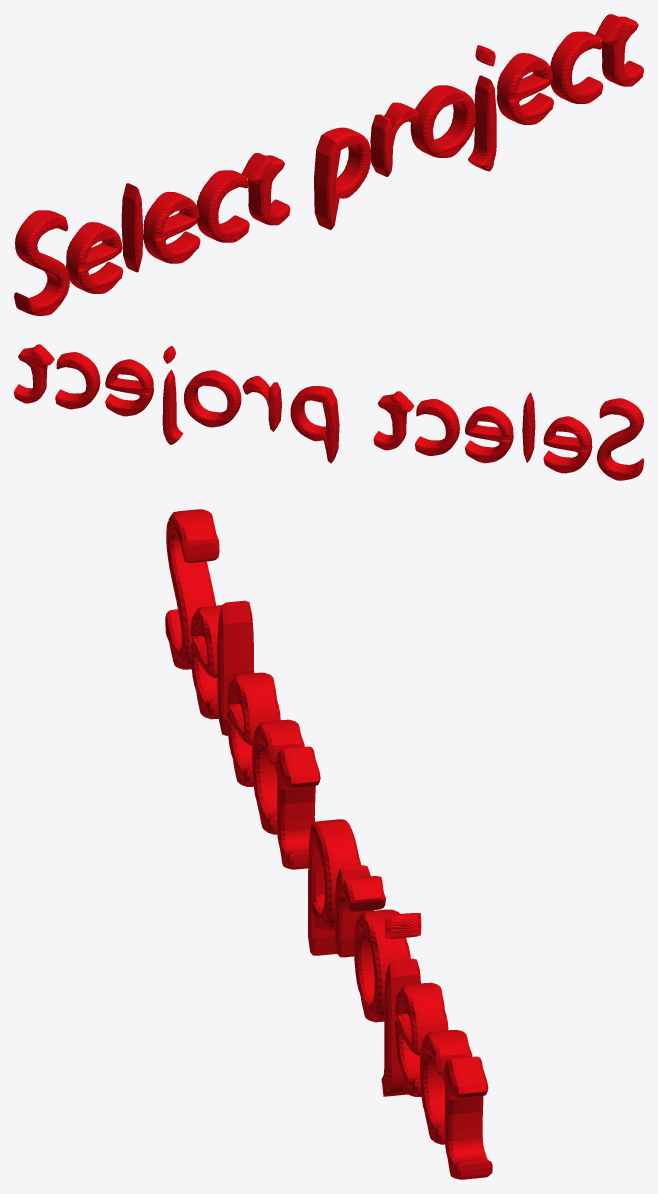
File: bebrik.glb
3 renders of one model, top to bottom at view 1: azimuth 30°, elevation 25°; view 2: azimuth 150°, elevation 25°; view 3: azimuth 270°, elevation 25°, orthographic. The views are drawn at different scales.
Visible parts, largest first — view 1: bebrik; view 2: bebrik; view 3: bebrik.
Part boxes in pixels (bbox=[...]): bebrik: bbox=[14, 14, 643, 315]; bebrik: bbox=[14, 344, 643, 480]; bebrik: bbox=[165, 509, 492, 1179].
Size of the model in its own units: 15.87 by 2.67 by 4.05.
